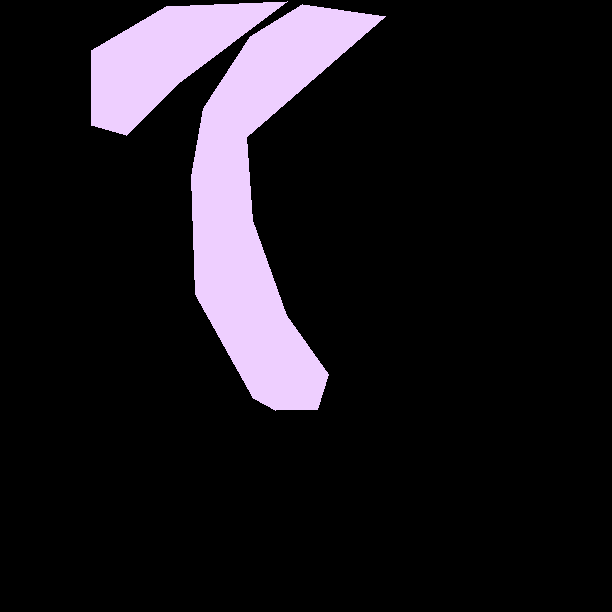Train: (191, 4, 386, 411), (91, 1, 287, 135)
